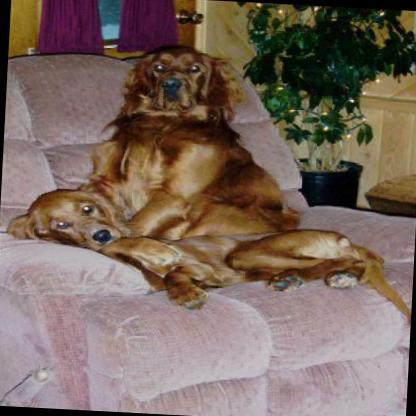Irish_setter: (0, 175, 413, 323), (86, 40, 308, 245)
